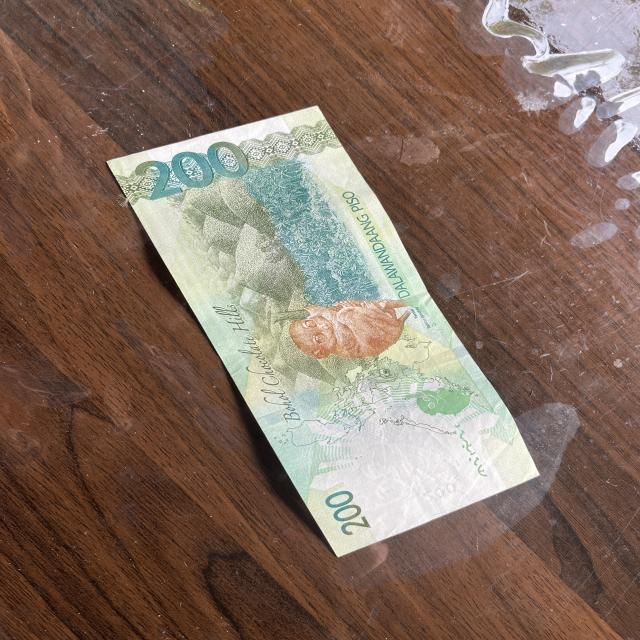200_tarsier: (279, 285, 446, 377)
200_tarsier_watermark: (390, 374, 499, 426)
value_watermark: (411, 478, 478, 507)
watermark: (328, 436, 473, 506)
